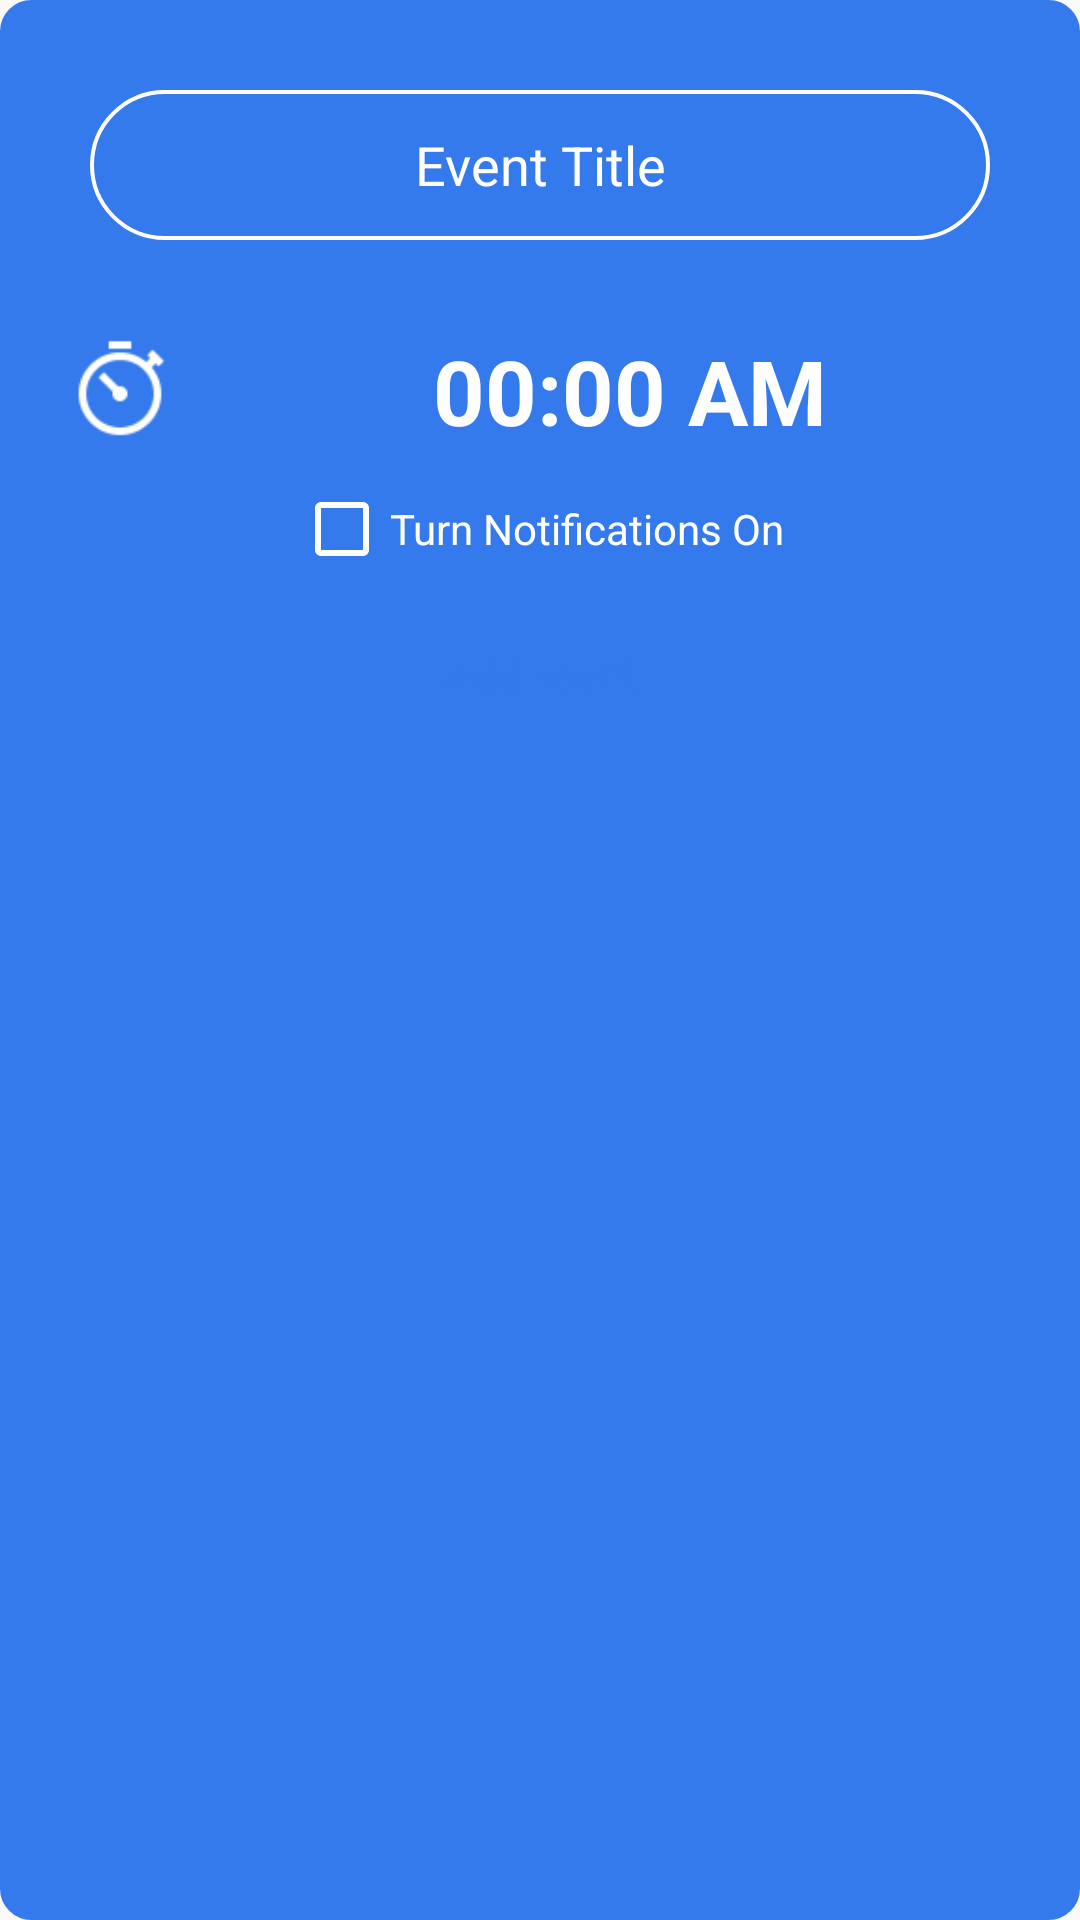

Where icons sit on this 1080*1920 app screen, as (x1, y1, x2, y2):
Clock: (78, 341, 164, 436)
